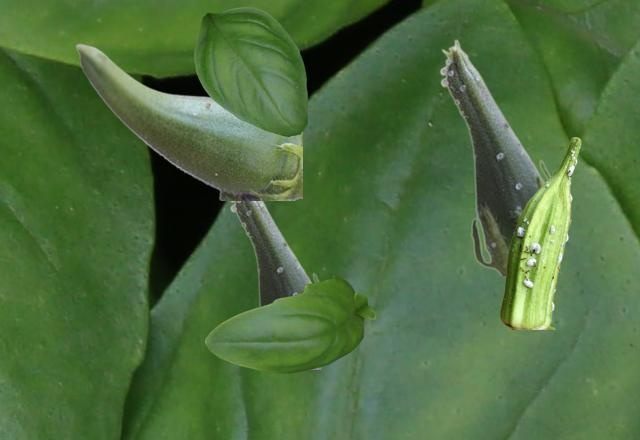okra: (75, 43, 301, 199), (439, 39, 551, 274), (229, 200, 321, 368), (500, 137, 580, 328)
